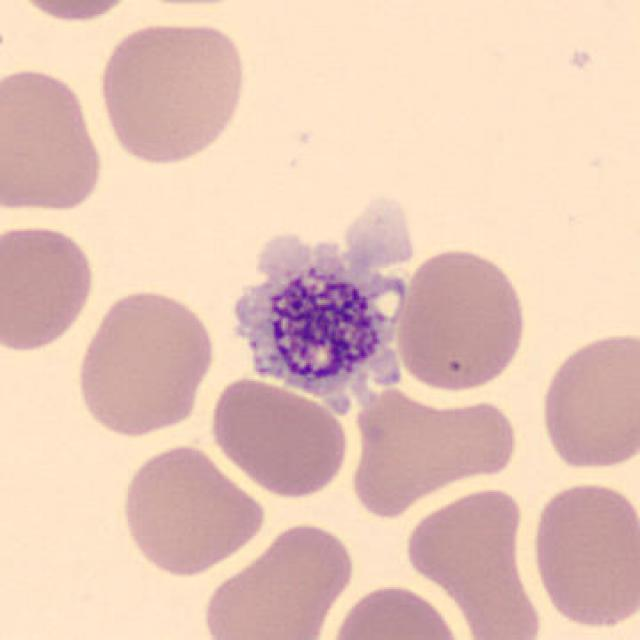Platelets: (211, 229, 425, 418)
RBC: (92, 16, 249, 167), (71, 284, 219, 439), (348, 385, 524, 513), (391, 243, 532, 397), (115, 441, 268, 578), (197, 516, 359, 640), (206, 374, 352, 499), (526, 476, 638, 633), (0, 63, 108, 216), (535, 326, 638, 474), (0, 219, 100, 356), (402, 485, 528, 589), (326, 580, 468, 640), (336, 188, 420, 272), (4, 0, 150, 25)
